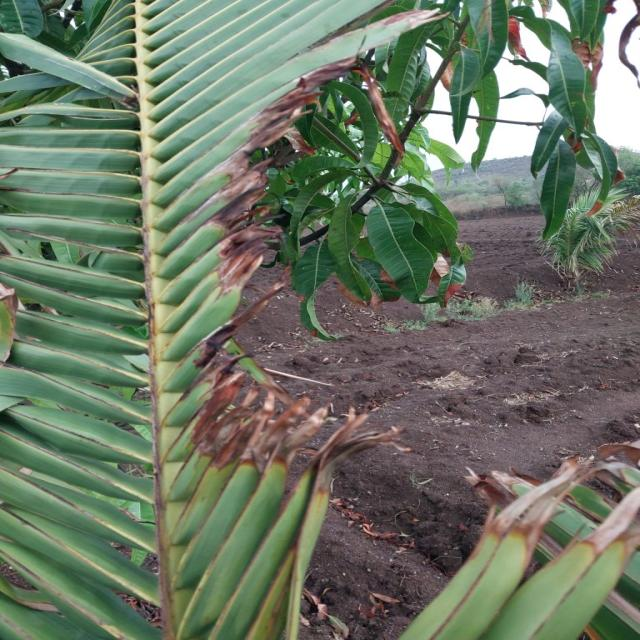leaf rot: (114, 7, 452, 543)
